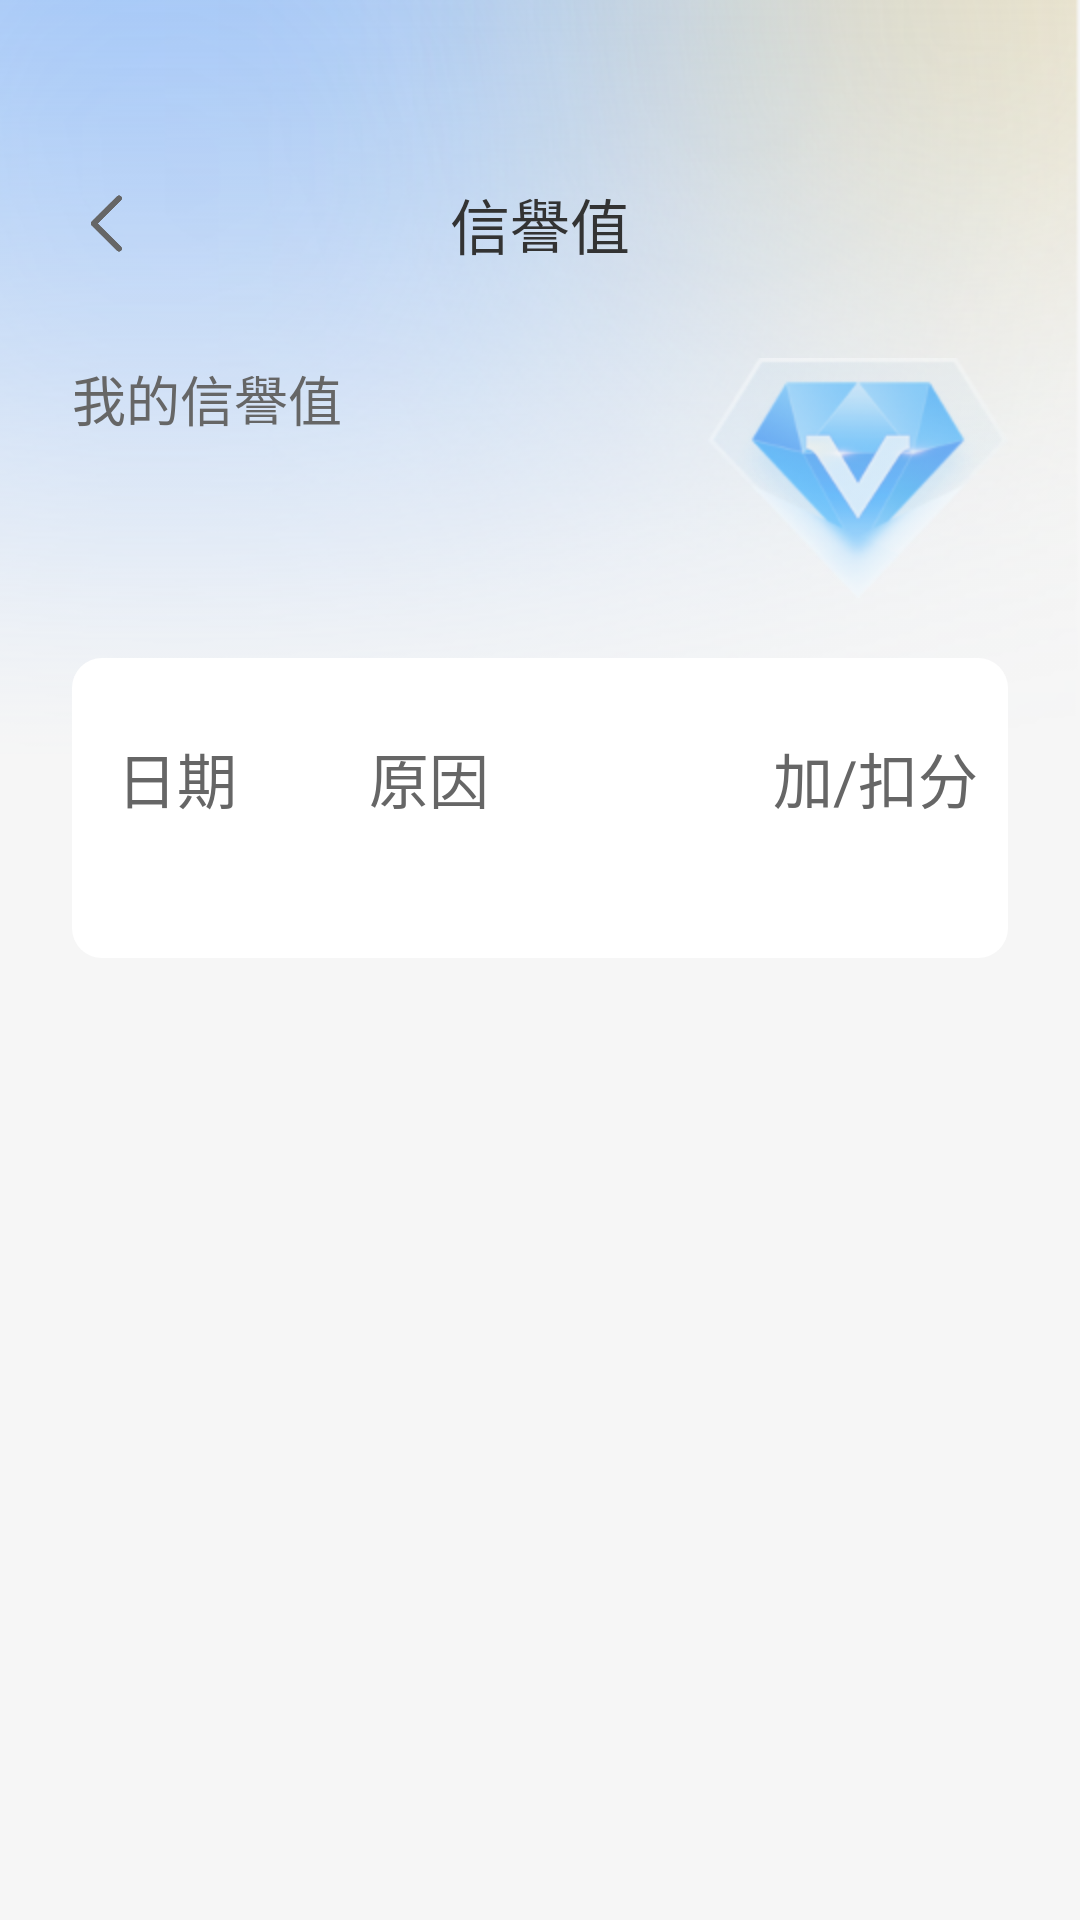

Where icons sit on this 1080px×1920px app screen, as (left=x1, top=y1, right=x2, bottom=y2):
back: (left=91, top=195, right=122, bottom=252)
